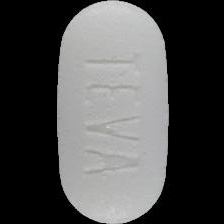0093-5961: (0, 0, 224, 224)
